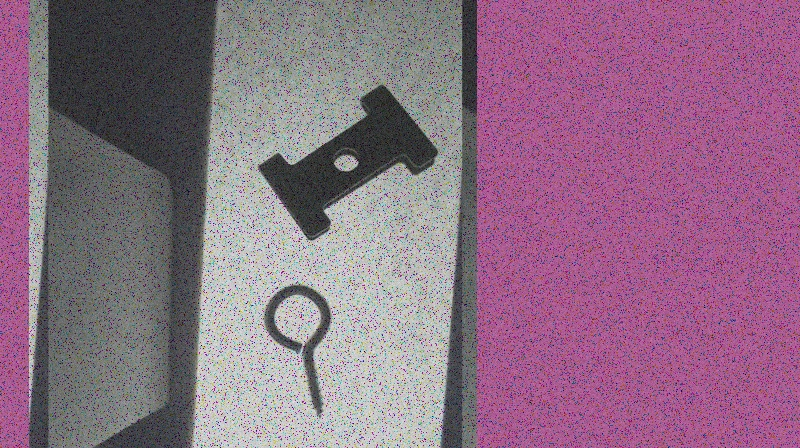O001: (260, 282, 331, 420)
O002: (256, 81, 438, 241)
